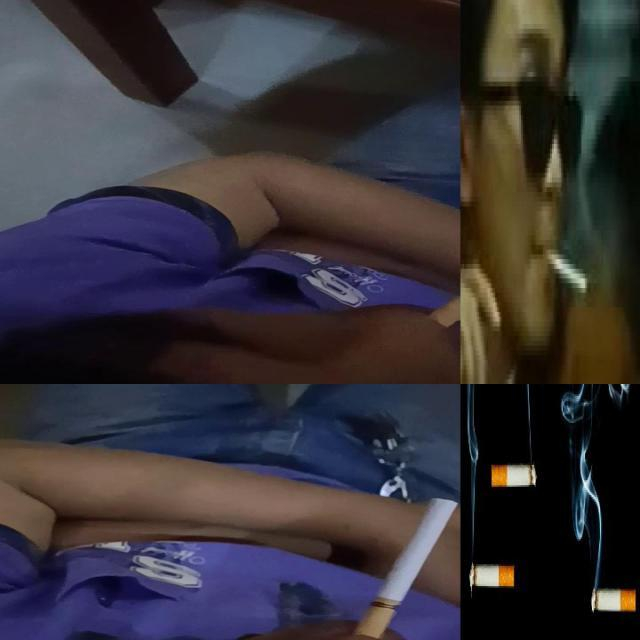smoking: (356, 498, 460, 638), (428, 228, 460, 328), (539, 245, 587, 293), (469, 560, 515, 590), (590, 586, 636, 614), (491, 464, 537, 488)
